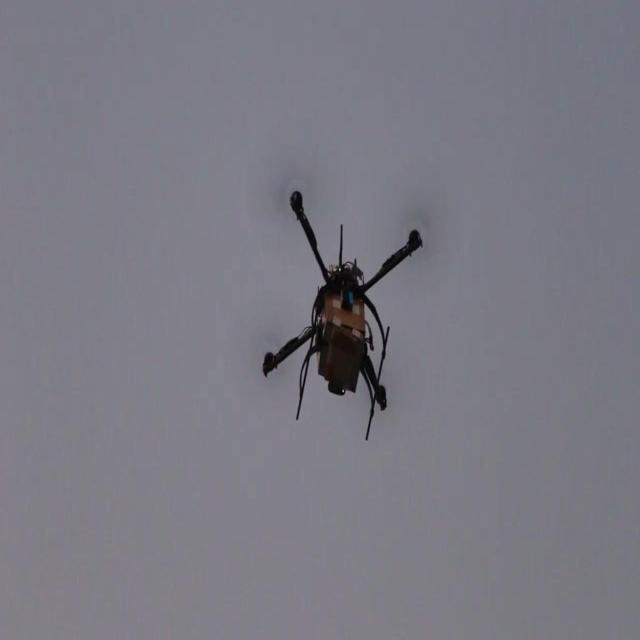drone: (261, 186, 422, 444)
